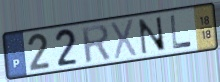2: (54, 26, 83, 71), (27, 31, 53, 73)
L: (168, 14, 193, 51)
N: (137, 15, 168, 56)
R: (80, 23, 112, 65)
X: (109, 17, 138, 61)
